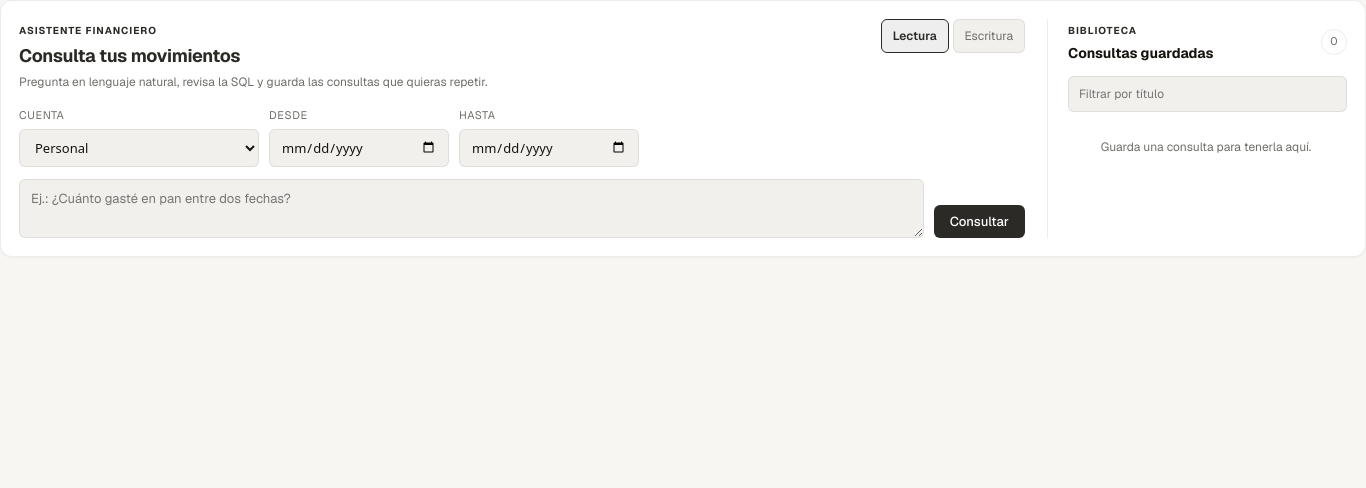
AssistantPanel › envía la petición y el scope interactivo en modo lectura y muestra los pasos
This screenshot has width=1366, height=488.
Type "¿Cuánto he gastado?" into the text box named "Petición para el asistente" at (471, 208), box x1=19 y1=178 x2=924 y2=238
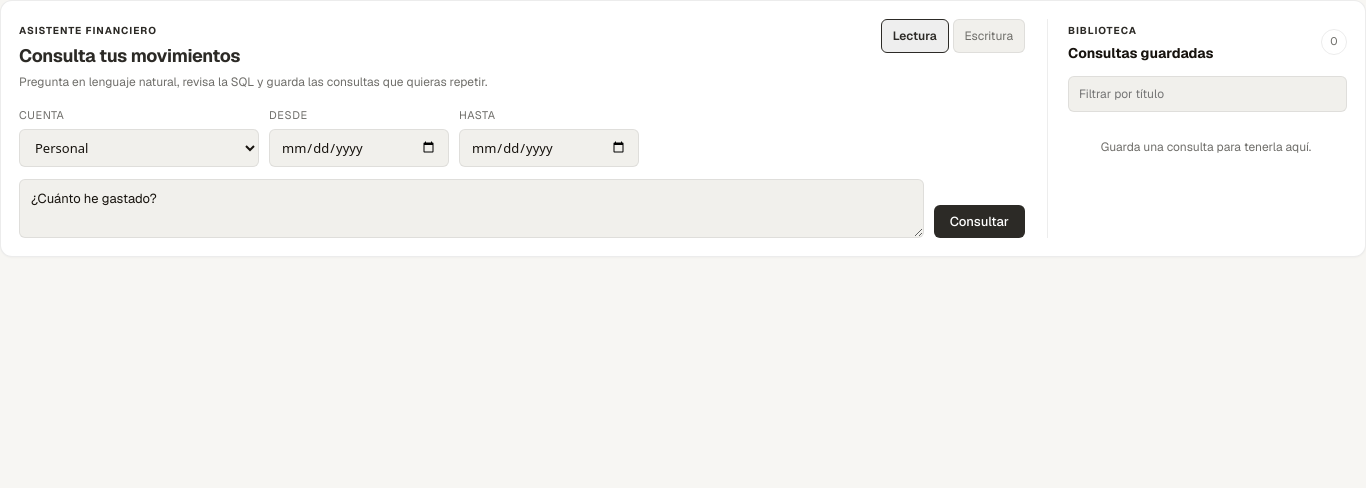
Type "2026-09-01" into the date field labelled "Desde" at (359, 148), box x1=269 y1=128 x2=449 y2=166
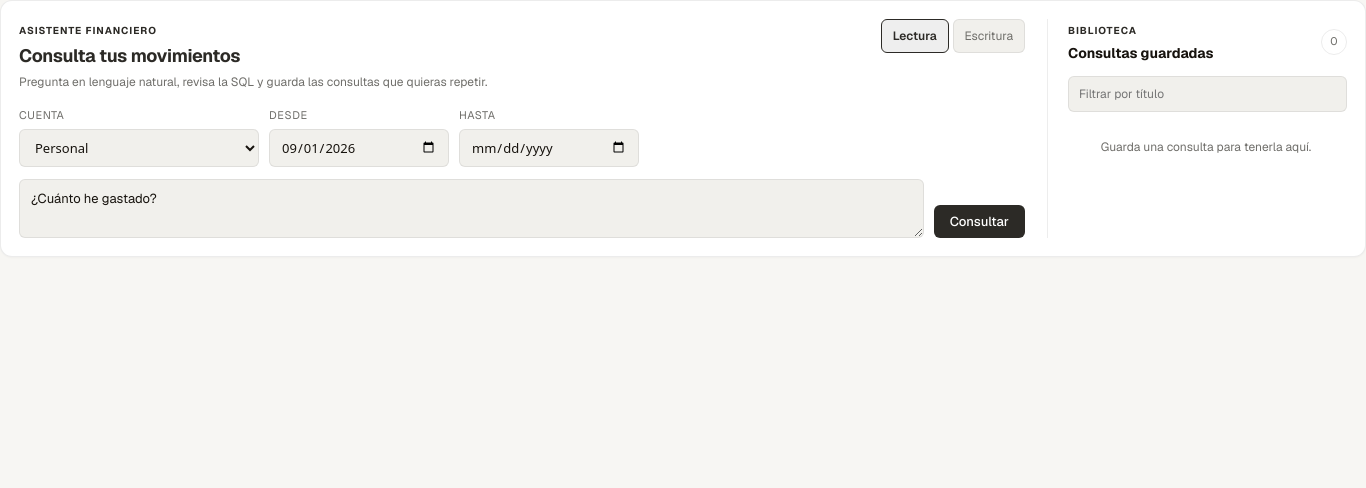
Type "2026-10-01" into the date field labelled "Hasta" at (549, 148), box x1=459 y1=128 x2=639 y2=166
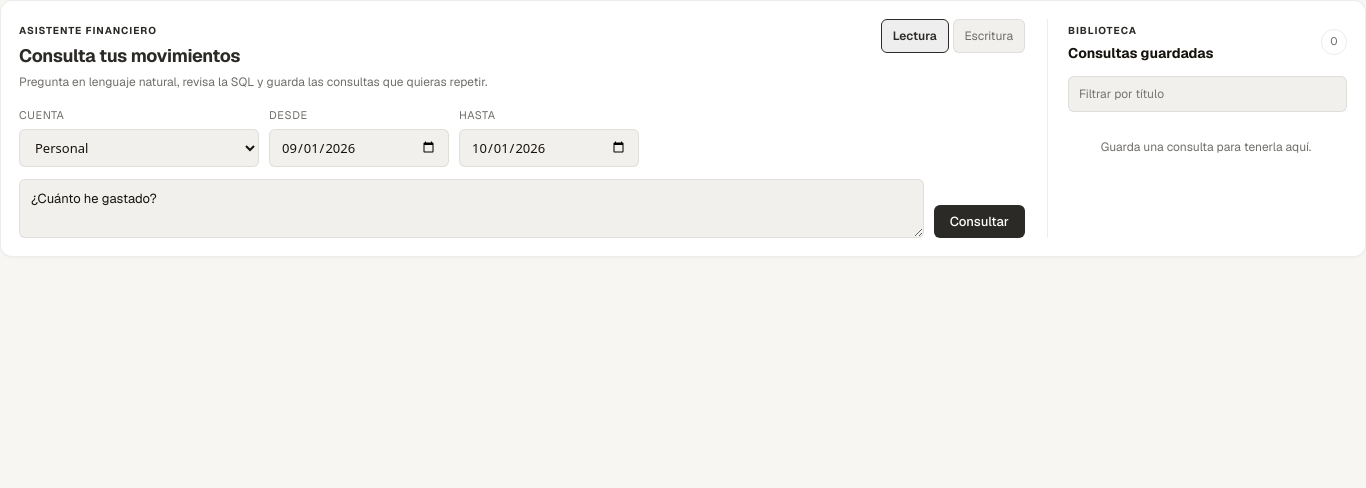
Click the button "Consultar" at (979, 221), box x1=934 y1=204 x2=1025 y2=238
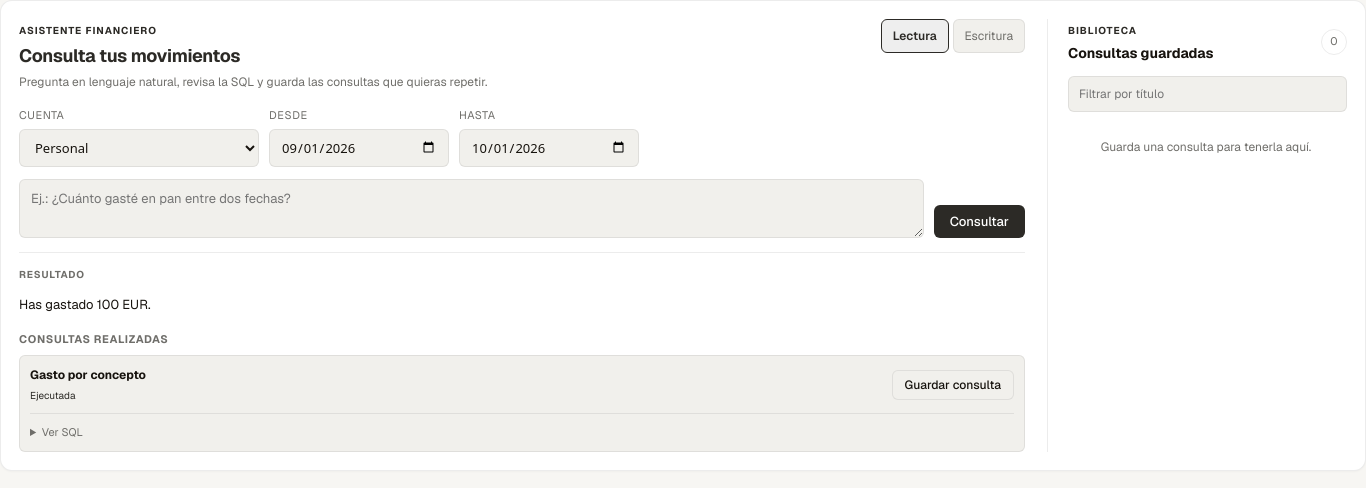
Expected: the text "Has gastado 100 EUR." is shown, x1=19 y1=296 x2=151 y2=312
Expected: the text box named "Petición para el asistente" is empty, x1=19 y1=178 x2=924 y2=238
Expected: the text "Gasto por concepto" is shown, x1=30 y1=366 x2=146 y2=384
